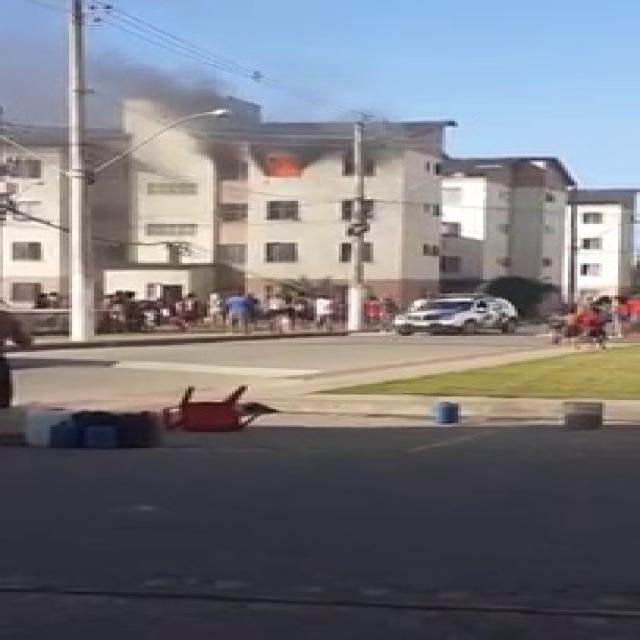Smoke: (13, 22, 230, 179)
